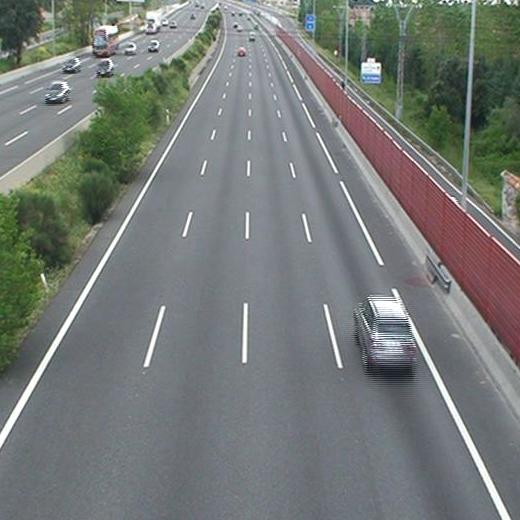car: (355, 298, 413, 367), (237, 47, 245, 56)
